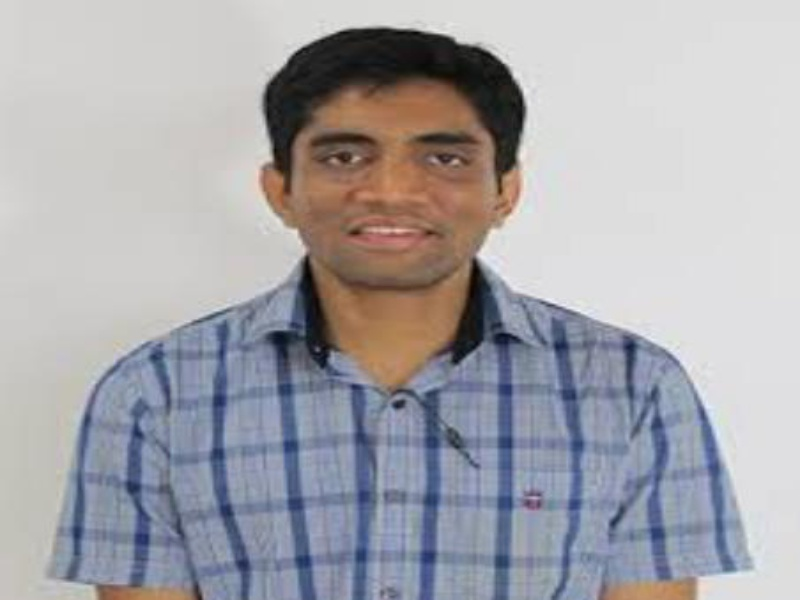TsisyArotava: (260, 49, 530, 297)
